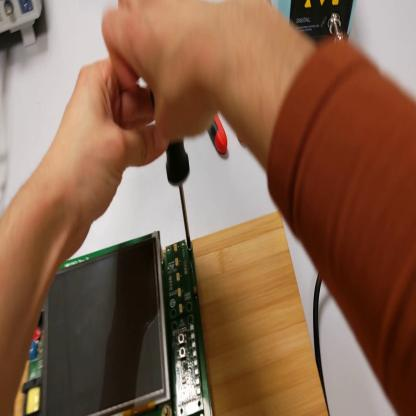hand: (51, 55, 170, 250), (101, 3, 241, 147)
low voltage board: (17, 227, 214, 416)
oscilloscope: (2, 3, 43, 49)
pliers: (210, 115, 229, 157)
screwdriver-: (151, 96, 194, 249)
welder station: (273, 1, 358, 47)
working area: (19, 211, 331, 415)
